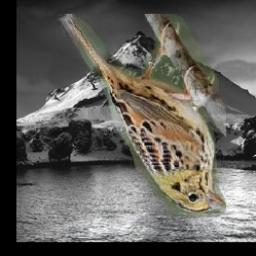Sparrow: (58, 15, 226, 217)
